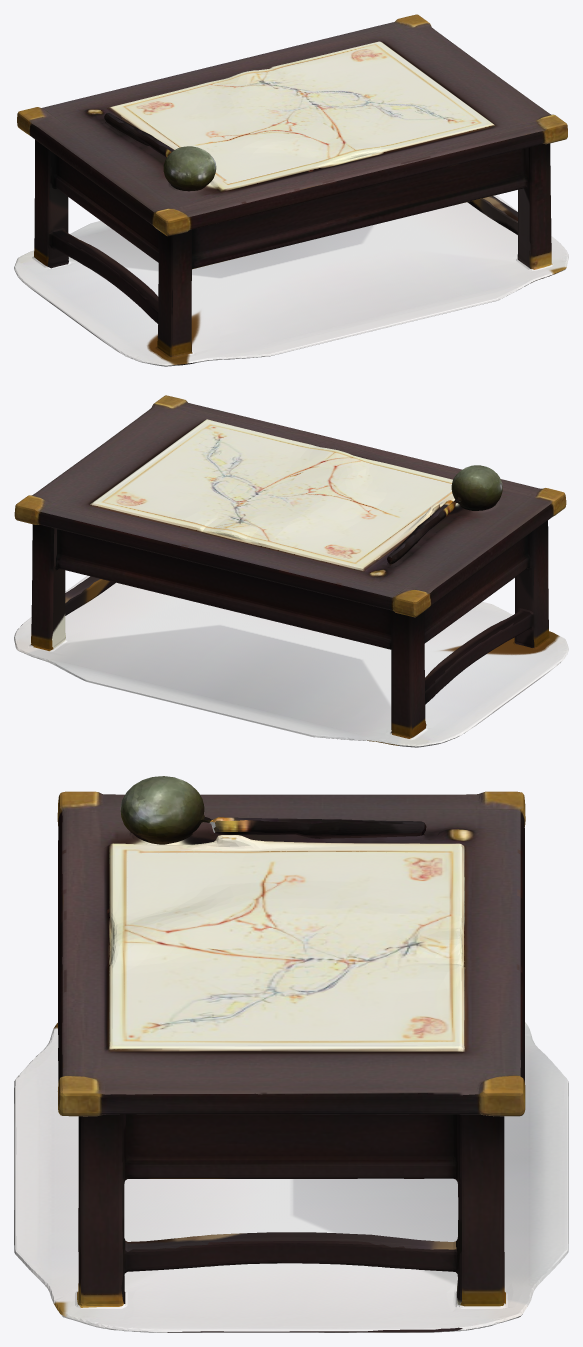
File: traveler_env_coast_kudo_mantis_chart_desk_00001_.glb
The picture shows the model from 3 angles, top to bottom: view 1: azimuth 30°, elevation 25°; view 2: azimuth 150°, elevation 25°; view 3: azimuth 270°, elevation 25°; orthographic projection. The views are drawn at different scales.
Parts seen in each view (by area): view 1: temp_mesh.ply; view 2: temp_mesh.ply; view 3: temp_mesh.ply.
Boxes of the visible parts, bbox=[...] form: temp_mesh.ply: bbox=[14, 14, 568, 366]; temp_mesh.ply: bbox=[14, 395, 568, 747]; temp_mesh.ply: bbox=[14, 776, 568, 1332].
Size of the model in its own units: 1.97 by 0.7686 by 1.38.
1 material, 1 textured.
